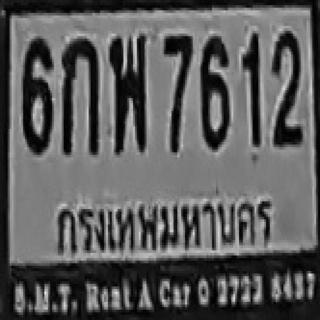A01: (60, 36, 98, 152)
A30: (108, 31, 146, 152), (108, 31, 146, 137)
N01: (241, 32, 260, 146)
N02: (271, 27, 302, 146)
N06: (21, 36, 52, 152), (200, 33, 230, 150)
N07: (163, 34, 192, 152)
P04: (45, 184, 285, 264)
